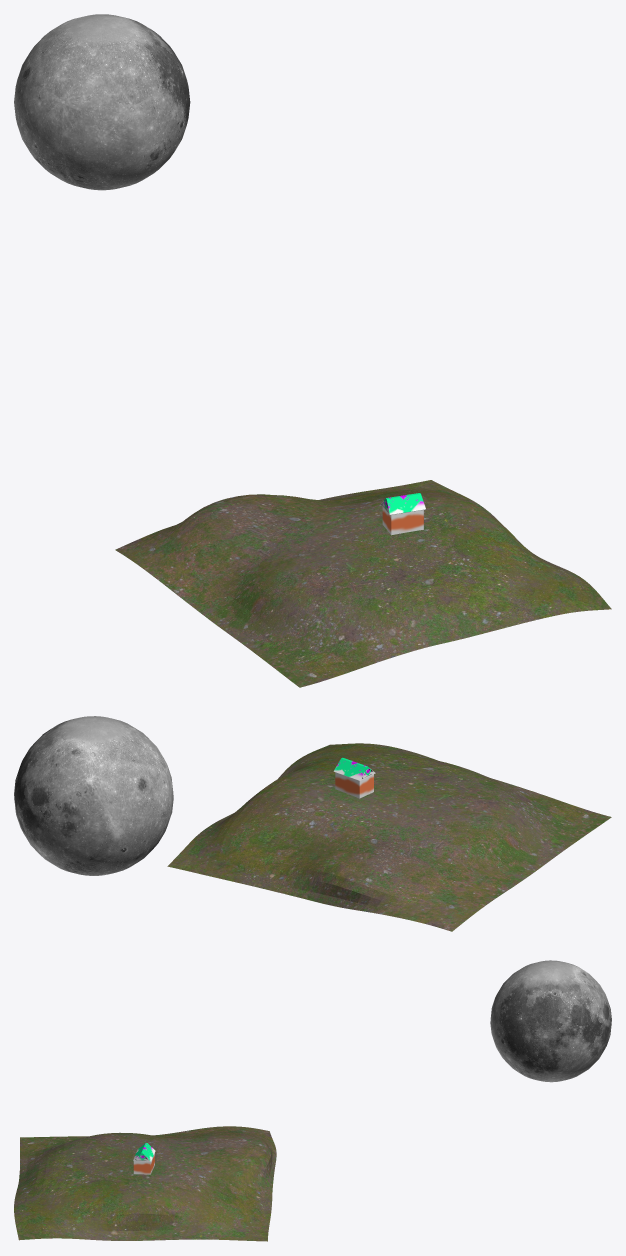
3 renders of one model, top to bottom at view 1: azimuth 30°, elevation 25°; view 2: azimuth 150°, elevation 25°; view 3: azimuth 270°, elevation 25°, orthographic. The views are drawn at different scales.
Visible parts, largest first — view 1: Hill, Moon, House; view 2: Hill, Moon, House; view 3: Hill, Moon, House.
Part boxes in pixels (<box>): Hill: <box>115,480,611,687</box>; Moon: <box>14,14,190,190</box>; House: <box>380,493,425,535</box>; Hill: <box>167,743,611,931</box>; Moon: <box>14,716,173,875</box>; House: <box>333,757,375,798</box>; Hill: <box>14,1126,276,1241</box>; Moon: <box>490,960,611,1082</box>; House: <box>133,1143,155,1174</box>.
Bounding box in the file's own units: 30.12 × 30.09 × 69.65.
Materials: 3 (3 with a texture image).
